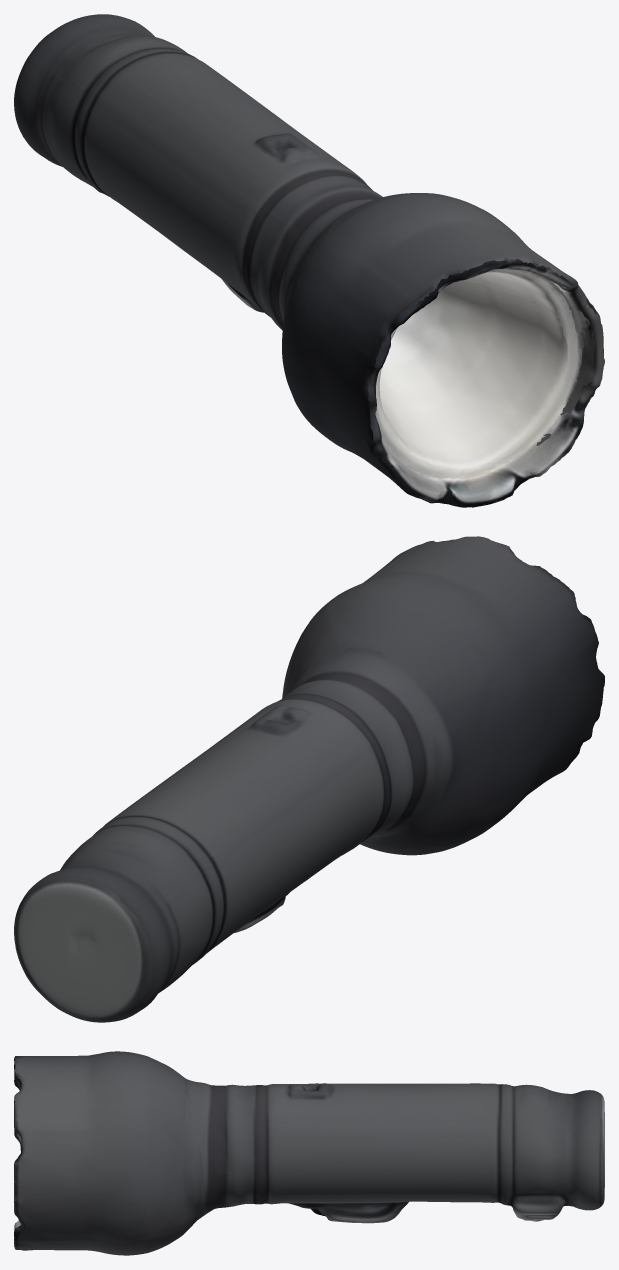
Rendered from flashlight.fbx.
The picture shows the model from 3 angles, top to bottom: view 1: azimuth 30°, elevation 25°; view 2: azimuth 150°, elevation 25°; view 3: azimuth 270°, elevation 25°; orthographic projection. The views are drawn at different scales.
Parts seen in each view (by area): view 1: tmpixo9dgtd.ply; view 2: tmpixo9dgtd.ply; view 3: tmpixo9dgtd.ply.
Part boxes in pixels (box(x1,y1,x2,y2)): tmpixo9dgtd.ply: box(14, 14, 604, 507); tmpixo9dgtd.ply: box(14, 536, 604, 1022); tmpixo9dgtd.ply: box(14, 1051, 604, 1255).
Size of the model in its own units: 13.42 by 13.59 by 39.57.
1 material, 1 textured.
